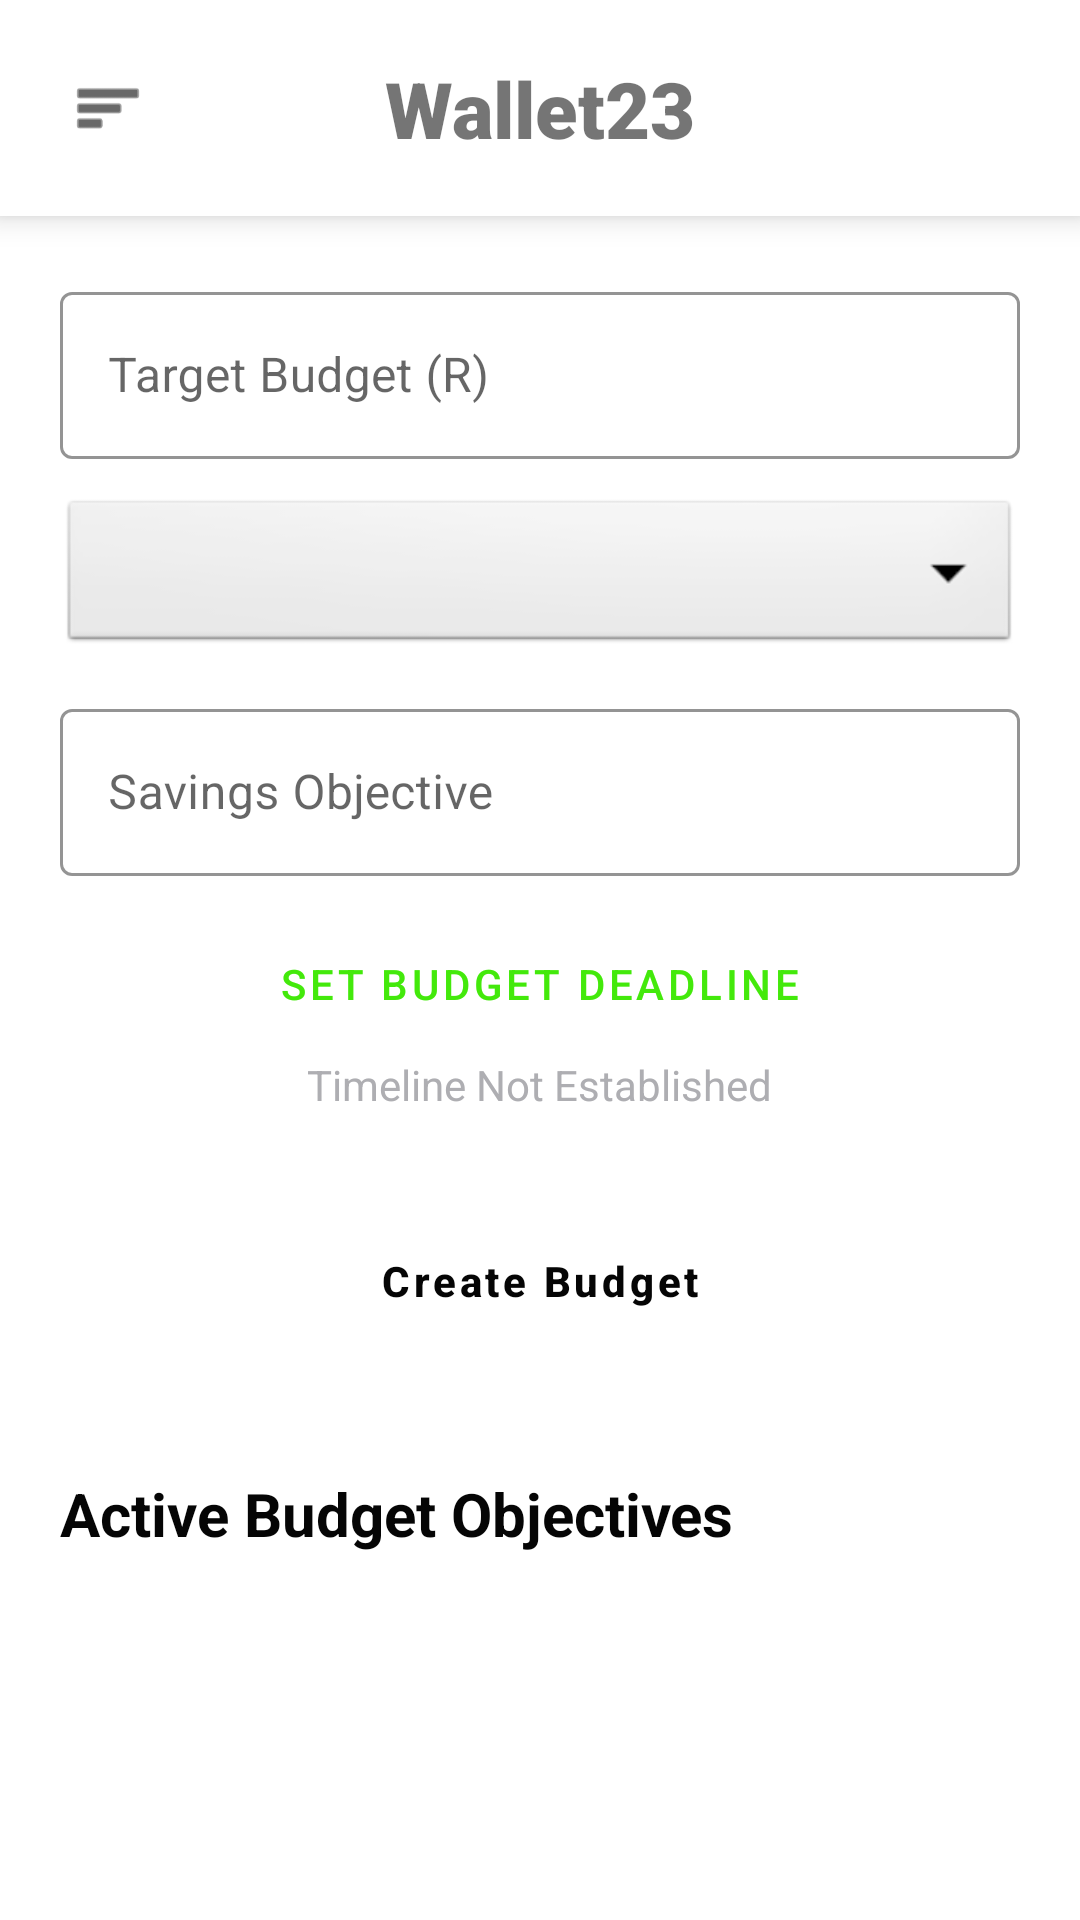

Icons on this 1080w x 1920h Android screen, each with the point to tap as point (x, y):
sort by size: point (108, 108)
